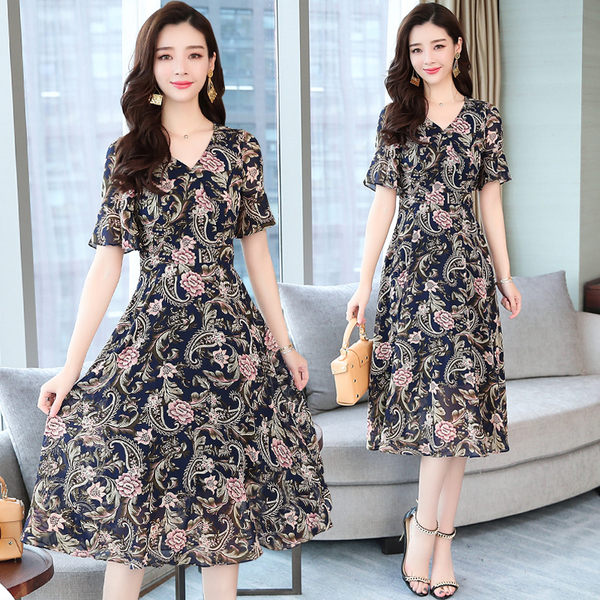C_dress: (15, 129, 311, 554), (355, 108, 535, 457)
